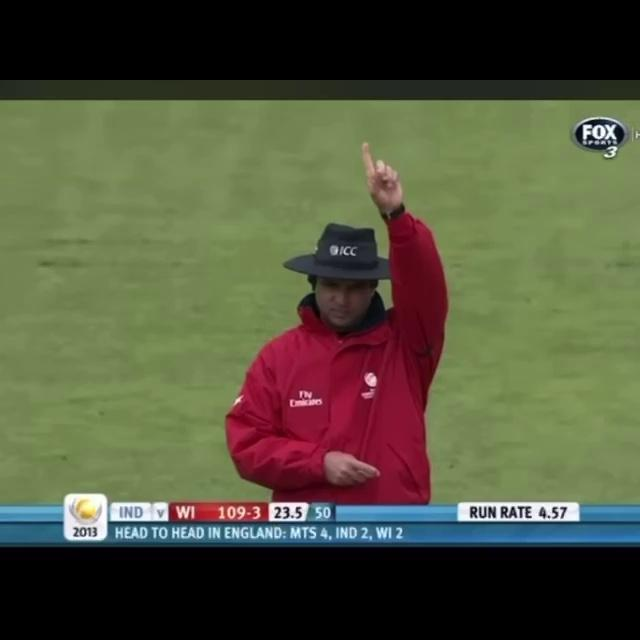umpire: (195, 122, 473, 496)
